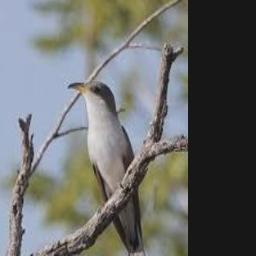Cuckoo: (68, 81, 154, 256)
